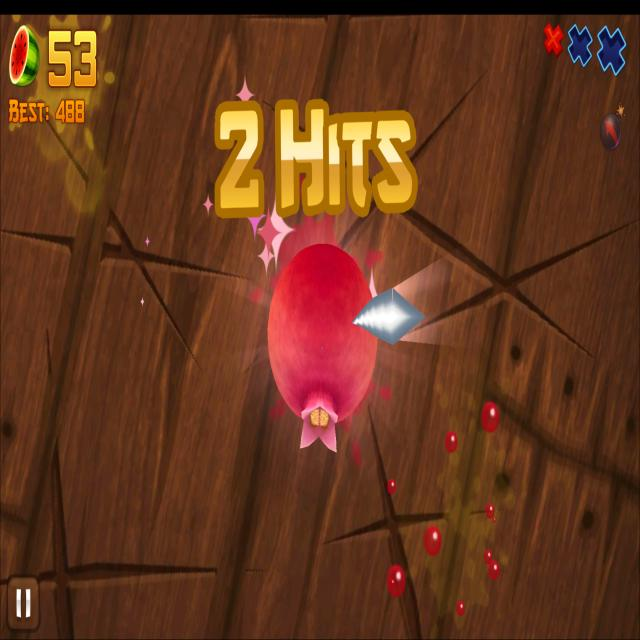fruit: (266, 244, 377, 452)
